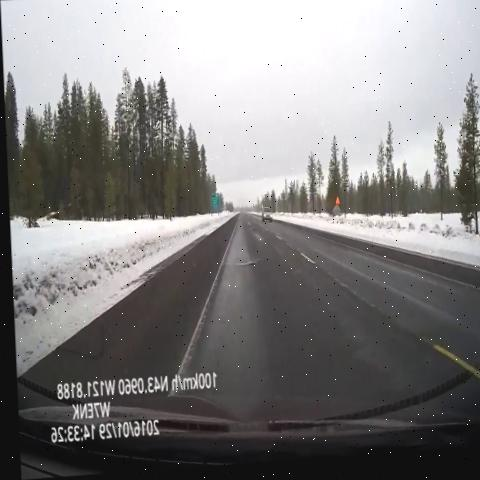pothole: (236, 250, 256, 277), (244, 224, 256, 244)
